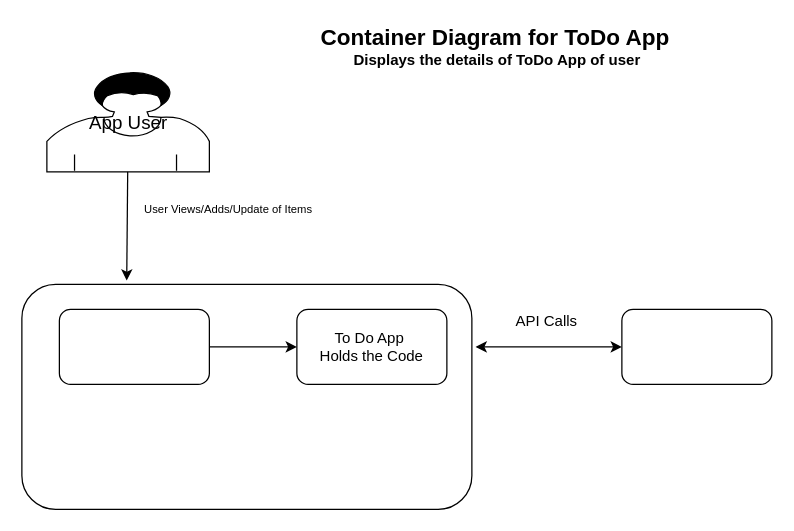
Image size: 794x531. Some labels were removed from this diagram. Here are the shapes that lost their labels. From the top down, the centre of each, then its label:
At (133,346): "GUNICORN Container on Docker Displays the content to Web User".
At (696,346): "TRELLO Holding the Lists for App User".
